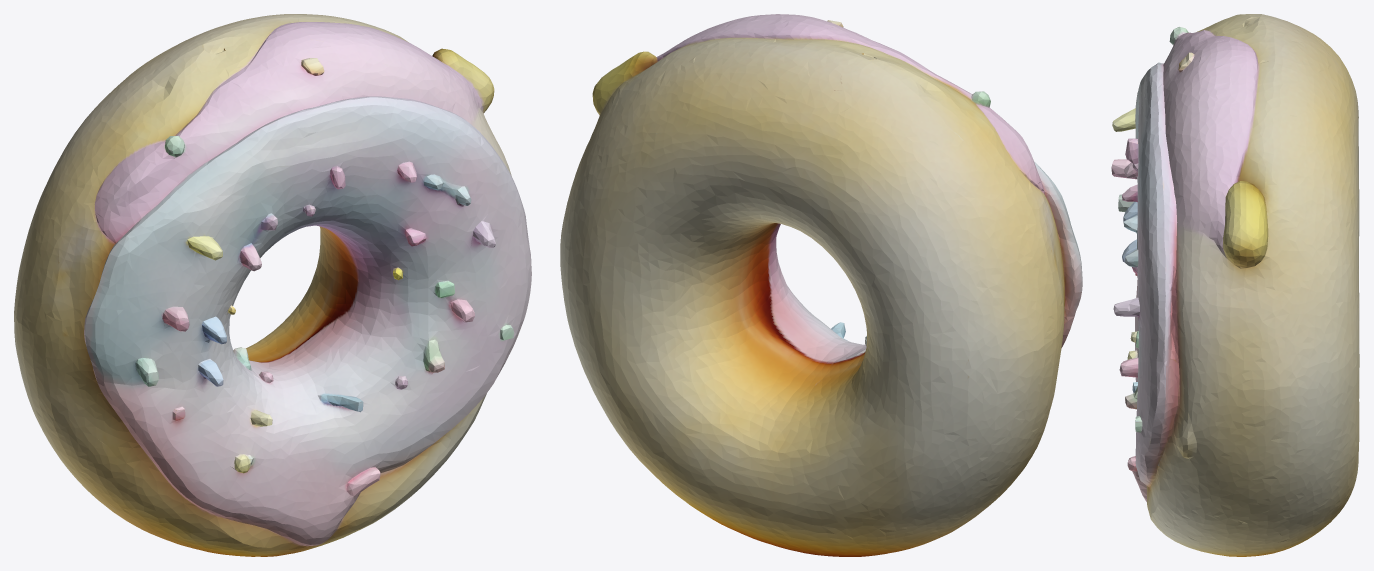
File: prop_donut.glb
The picture shows the model from 3 angles, left to right: view 1: azimuth 30°, elevation 25°; view 2: azimuth 150°, elevation 25°; view 3: azimuth 270°, elevation 25°; orthographic projection. The views are drawn at different scales.
Parts seen in each view (by area): view 1: world; view 2: world; view 3: world.
Boxes of the visible parts, x1,y1,x2,y2 form: world: [14, 14, 531, 556]; world: [560, 14, 1082, 556]; world: [1111, 14, 1359, 556].
Bounding box in the file's own units: 0.9783 × 1 × 0.4546.
Materials: 1 (1 with a texture image).
